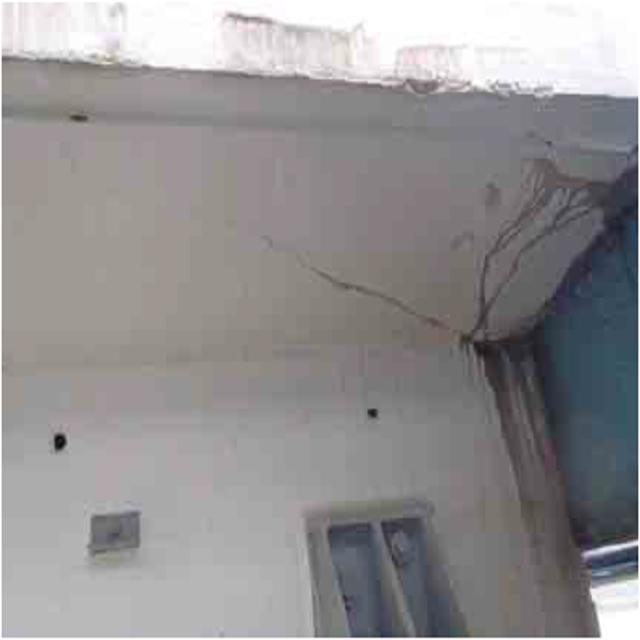crack: (258, 172, 598, 357)
spalling: (197, 13, 509, 116)
